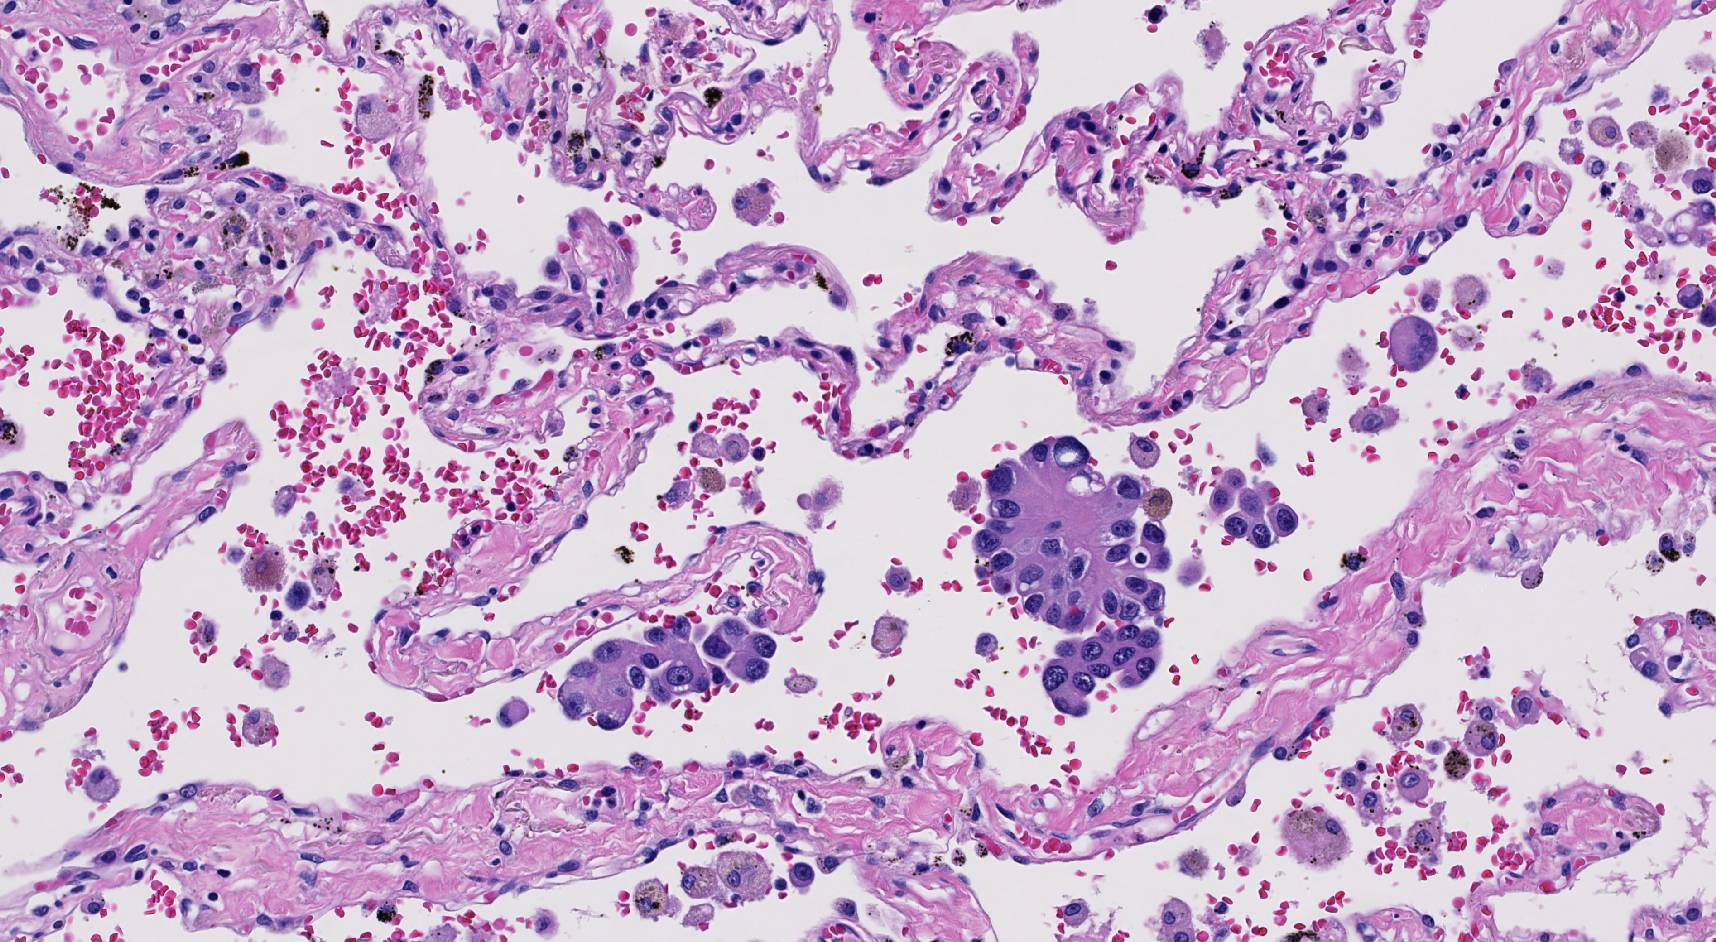stas: (969, 434, 1171, 632), (556, 614, 776, 731), (1044, 625, 1163, 713), (1211, 468, 1297, 548)
